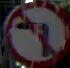Don't turn left: (5, 1, 69, 67)
